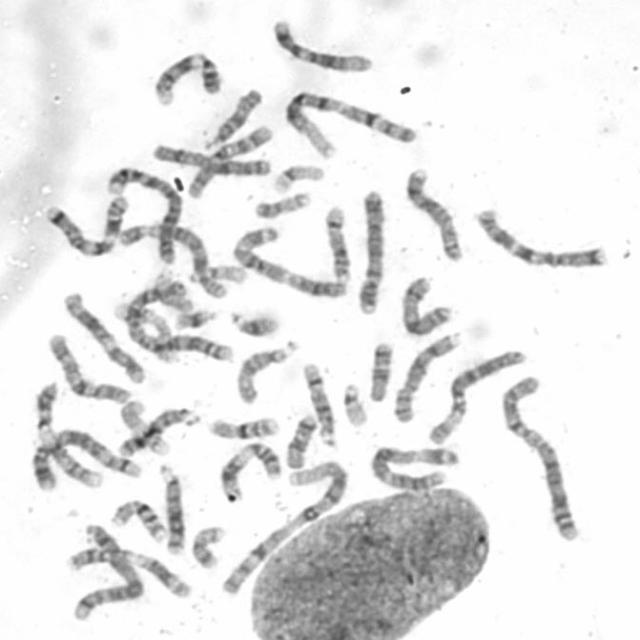A1: (215, 452, 353, 597), (276, 84, 418, 160)
A2: (496, 369, 584, 543), (116, 272, 236, 363)
A3: (227, 219, 351, 299), (364, 438, 462, 492)
B4: (98, 158, 188, 264), (351, 182, 388, 315)
B5: (26, 423, 147, 492), (65, 518, 144, 623)
C10: (181, 120, 276, 200), (41, 326, 135, 406)
C11: (61, 540, 195, 600), (213, 434, 284, 502)
C12: (57, 285, 148, 384), (266, 13, 375, 74)
C6: (422, 343, 528, 447), (112, 216, 231, 300)
C7: (468, 200, 610, 271), (39, 188, 132, 258)
C8: (386, 325, 464, 425), (399, 161, 466, 264)
C9: (29, 374, 101, 490), (147, 44, 225, 108)
D13: (118, 401, 206, 461), (153, 457, 188, 557)
D14: (296, 357, 340, 449), (318, 198, 354, 284)
D15: (230, 333, 301, 406), (198, 81, 264, 150)
E16: (106, 493, 169, 544), (202, 409, 282, 441)
E17: (108, 302, 177, 368), (152, 268, 198, 317)
E18: (280, 408, 318, 470), (362, 335, 395, 403)
F19: (115, 395, 172, 456), (267, 158, 327, 194)
F20: (249, 185, 314, 220), (185, 519, 227, 570)
G21: (224, 303, 282, 339), (169, 302, 219, 332)
G22: (182, 258, 249, 285), (336, 377, 371, 428)
X: (146, 138, 273, 178), (394, 269, 456, 338)
